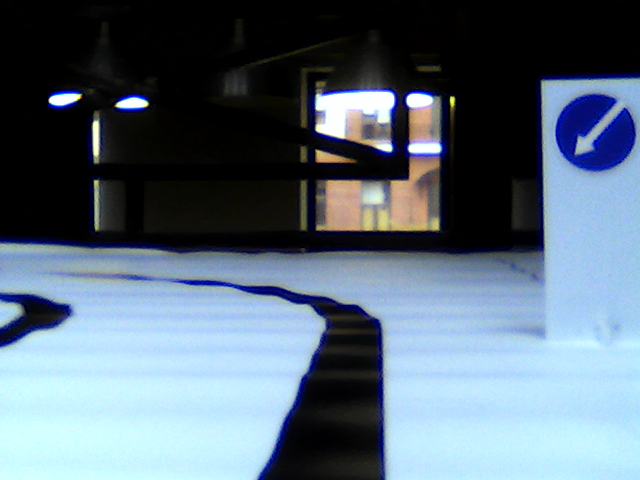prep: (553, 93, 634, 175)
